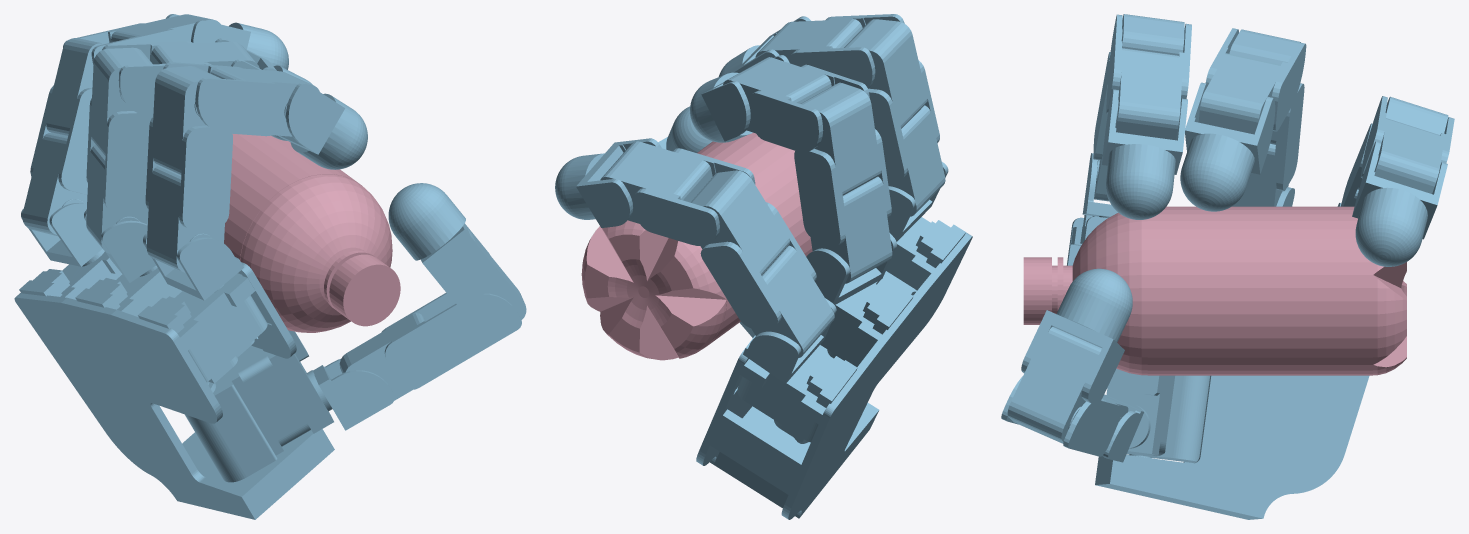
The picture shows the model from 3 angles, left to right: view 1: azimuth 30°, elevation 25°; view 2: azimuth 150°, elevation 25°; view 3: azimuth 270°, elevation 25°; orthographic projection. The views are drawn at different scales.
Parts seen in each view (by area): view 1: world; view 2: world; view 3: world.
Boxes of the visible parts, x1,y1,x2,y2 form: world: (14,14,526,519); world: (555,14,972,519); world: (1001,14,1454,519).
Bounding box in the file's own units: 0.1484 × 0.1915 × 0.1614.
